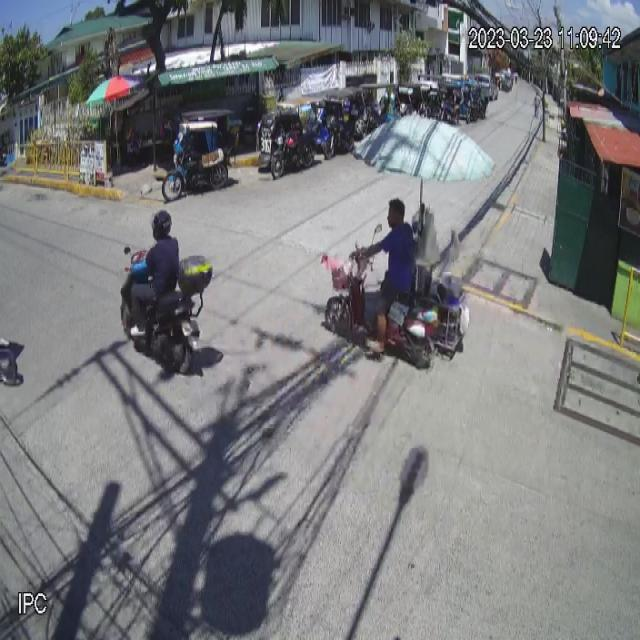Motorcycle: (119, 244, 214, 379)
Tricycle: (162, 108, 238, 203)
